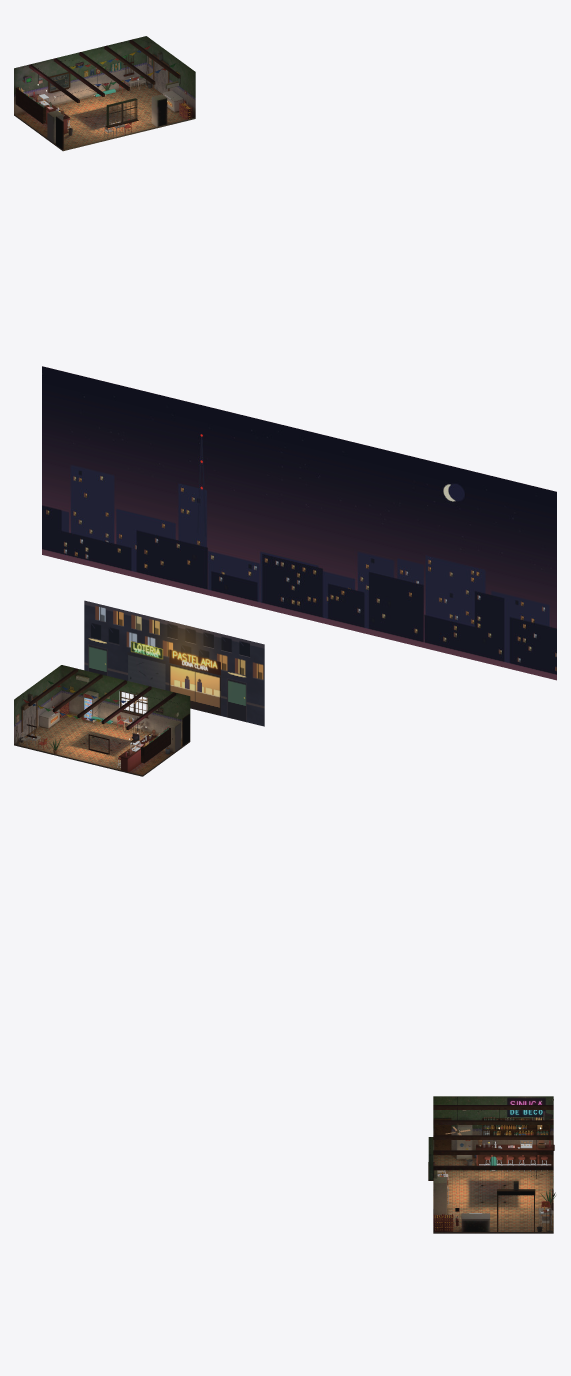
File: boteco-medio.glb
3 renders of one model, top to bottom at view 1: azimuth 30°, elevation 25°; view 2: azimuth 150°, elevation 25°; view 3: azimuth 270°, elevation 25°, orthographic. The views are drawn at different scales.
Parts seen in each view (by area): view 1: boteco; view 2: janela-rua, boteco; view 3: boteco.
Boxes of the visible parts, left/top/right/bottom form: boteco: left=14, top=36, right=195, bottom=151; janela-rua: left=42, top=366, right=556, bottom=726; boteco: left=14, top=665, right=190, bottom=776; boteco: left=428, top=1096, right=555, bottom=1233.
Bounding box in the file's own units: 40 × 14 × 28.87.
Materials: 38 (14 with a texture image).
